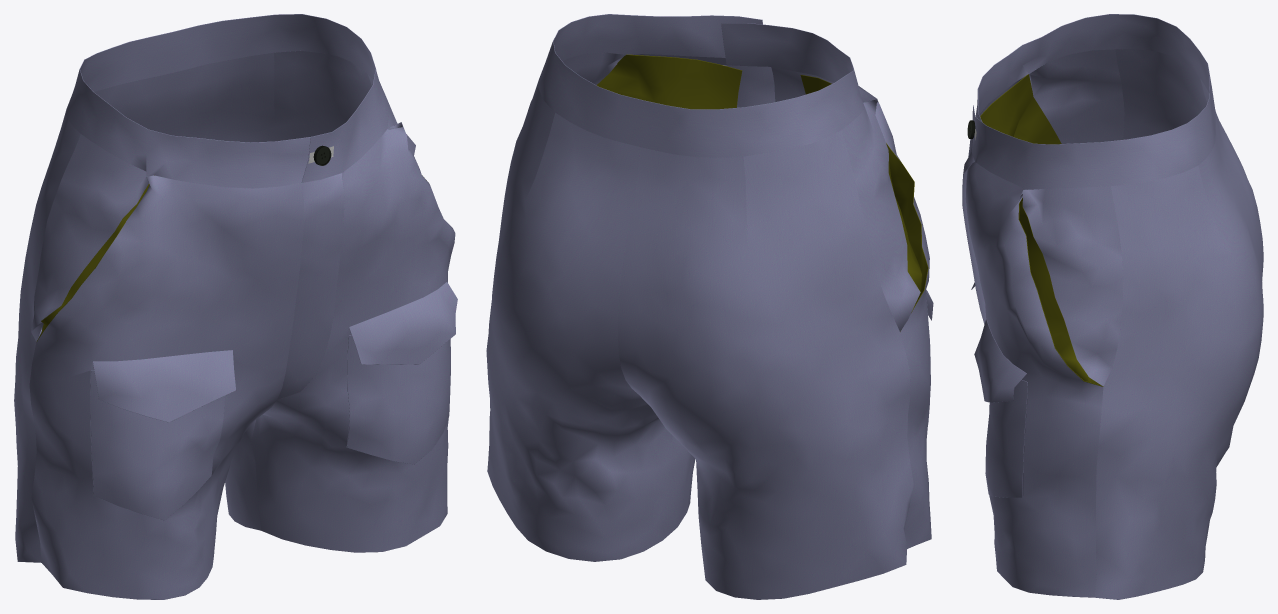
3 views of the same model, side by side, from view 1: azimuth 30°, elevation 25°; view 2: azimuth 150°, elevation 25°; view 3: azimuth 270°, elevation 25° (orthographic). The views are drawn at different scales.
Visible parts, largest first — view 1: Pattern2D_3956468, Pattern2D_3956717, OPC00WAB4, Pattern2D_3961243, Pattern2D_5340182, Pattern2D_3961019, Pattern2D_766543, Pattern2D_5340181, FLL_3, Pattern2D_5340184, Pattern2D_5340183, Pattern2D_5340179; view 2: Pattern2D_3961019, Pattern2D_3961243, OPC00WAB4, Pattern2D_766543, Pattern2D_3956468, Pattern2D_766546, Pattern2D_5340180, FLF_1, Pattern2D_766545, Pattern2D_5340179; view 3: Pattern2D_3961243, Pattern2D_3956717, OPC00WAB4, Pattern2D_766545, Pattern2D_3961019, Pattern2D_766543, Pattern2D_5340181, Pattern2D_5340179, Pattern2D_766546, Pattern2D_5340183, FLL_3.
Part boxes in pixels (x1,y1,x2,y2): Pattern2D_3956468: (29, 175, 304, 599); Pattern2D_3956717: (251, 122, 455, 552); OPC00WAB4: (66, 14, 389, 188); Pattern2D_3961243: (158, 50, 371, 530); Pattern2D_5340182: (90, 370, 224, 520); Pattern2D_3961019: (14, 73, 171, 562); Pattern2D_766543: (31, 134, 148, 341); Pattern2D_5340181: (347, 335, 450, 464); FLL_3: (277, 173, 344, 399); Pattern2D_5340184: (93, 350, 236, 422); Pattern2D_5340183: (349, 282, 457, 364); Pattern2D_5340179: (39, 183, 149, 337); Pattern2D_3961019: (618, 130, 913, 599); Pattern2D_3961243: (486, 81, 693, 561); OPC00WAB4: (538, 14, 876, 157); Pattern2D_766543: (841, 99, 920, 331); Pattern2D_3956468: (771, 67, 931, 548); Pattern2D_766546: (596, 54, 742, 109); Pattern2D_5340180: (818, 78, 928, 331); FLF_1: (723, 65, 775, 107); Pattern2D_766545: (562, 52, 625, 85); Pattern2D_5340179: (800, 75, 921, 291); Pattern2D_3961243: (1095, 128, 1263, 599); Pattern2D_3956717: (965, 162, 1103, 597); OPC00WAB4: (971, 14, 1215, 189); Pattern2D_766545: (1022, 186, 1123, 386); Pattern2D_3961019: (1115, 49, 1263, 280); Pattern2D_766543: (1029, 49, 1124, 143); Pattern2D_5340181: (985, 380, 1027, 497); Pattern2D_5340179: (980, 74, 1061, 144); Pattern2D_766546: (1019, 198, 1101, 385); Pattern2D_5340183: (974, 319, 1026, 402); FLL_3: (962, 142, 986, 324).
Bounding box in the file's own units: 35.72 × 40.39 × 24.27.
